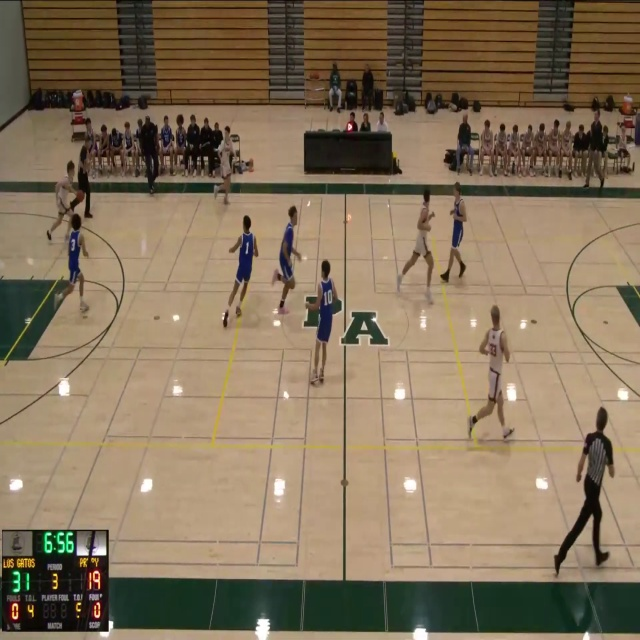Basketball: (75, 190, 84, 203)
